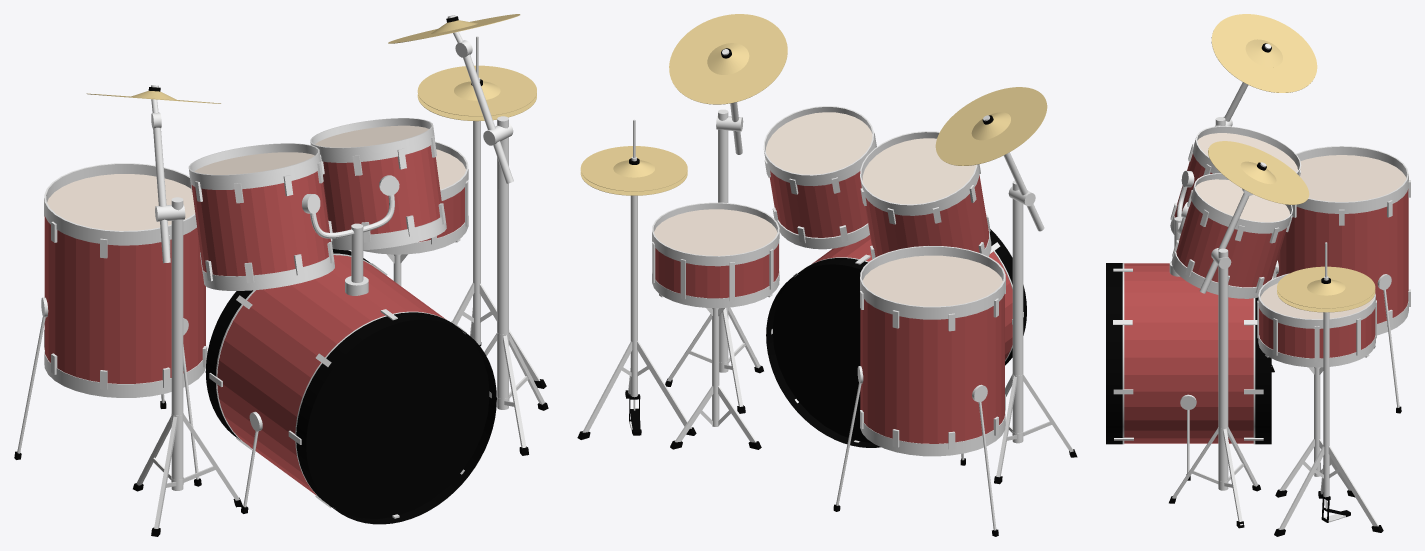
The model's file is sweethome3d-contributions-drums.glb.
3 renders of one model, left to right at view 1: azimuth 30°, elevation 25°; view 2: azimuth 150°, elevation 25°; view 3: azimuth 270°, elevation 25°, orthographic. The views are drawn at different scales.
Visible parts, largest first — view 1: Grosse_caisse_devant, Tom_Tom_basse, Grosse_caisse, Tom_Tom_2, Tom_Tom_1, Peau_haut_2, Contour_devant, Cymbale_pedale, Contour_haut_2, Pied_centre_1, Contour_haut_1, Pied_centre (+18 smaller); view 2: Tom_Tom_basse, Grosse_caisse_derriere, Cymbale, Peau_haut_2, Cymbale_6, Peau_haut, Peau_haut_1, Tom_Tom_2, Tom_Tom_1, Peau_haut_3, Caisse_claire_bois, Contour_haut_2 (+18 smaller); view 3: Grosse_caisse, Tom_Tom_basse, Cymbale_6, Tom_Tom_1, Peau_haut_2, Cymbale, Caisse_claire_bois, Contour_devant, Cymbale_pedale, Contour_haut_2, Pied_centre, Peau_haut (+22 smaller).
Boxes of the visible parts, box(x1,y1,x2,y2) form: Grosse_caisse_devant: box(306, 320, 489, 519); Tom_Tom_basse: box(44, 216, 205, 383); Grosse_caisse: box(217, 255, 446, 495); Tom_Tom_2: box(191, 171, 330, 276); Tom_Tom_1: box(323, 145, 441, 234); Peau_haut_2: box(47, 174, 195, 230); Contour_devant: box(296, 312, 496, 524); Cymbale_pedale: box(417, 65, 536, 116); Contour_haut_2: box(44, 163, 196, 245); Pied_centre_1: box(171, 197, 183, 490); Contour_haut_1: box(188, 143, 320, 189); Pied_centre: box(497, 116, 508, 409); Tom_Tom_basse: box(860, 294, 1004, 443); Grosse_caisse_derriere: box(773, 264, 872, 442); Cymbale: box(669, 14, 787, 104); Peau_haut_2: box(862, 255, 1002, 306); Cymbale_6: box(935, 87, 1047, 165); Peau_haut: box(766, 112, 872, 174); Peau_haut_1: box(862, 138, 975, 204); Tom_Tom_2: box(865, 175, 988, 257); Tom_Tom_1: box(769, 170, 867, 237); Peau_haut_3: box(654, 209, 777, 255); Caisse_claire_bois: box(655, 243, 778, 298); Contour_haut_2: box(860, 246, 1005, 319); Grosse_caisse: box(1124, 263, 1253, 443); Tom_Tom_basse: box(1276, 189, 1408, 323); Cymbale_6: box(1211, 14, 1317, 92); Tom_Tom_1: box(1176, 200, 1286, 287); Peau_haut_2: box(1300, 155, 1406, 201); Cymbale: box(1208, 141, 1309, 204); Caisse_claire_bois: box(1259, 307, 1375, 358); Contour_devant: box(1106, 263, 1122, 444); Cymbale_pedale: box(1277, 266, 1375, 308); Contour_haut_2: box(1296, 146, 1408, 213); Pied_centre: box(1218, 248, 1228, 490); Peau_haut: box(1195, 179, 1290, 222).
Bounding box in the file's own units: 141 × 116 × 92.84.
